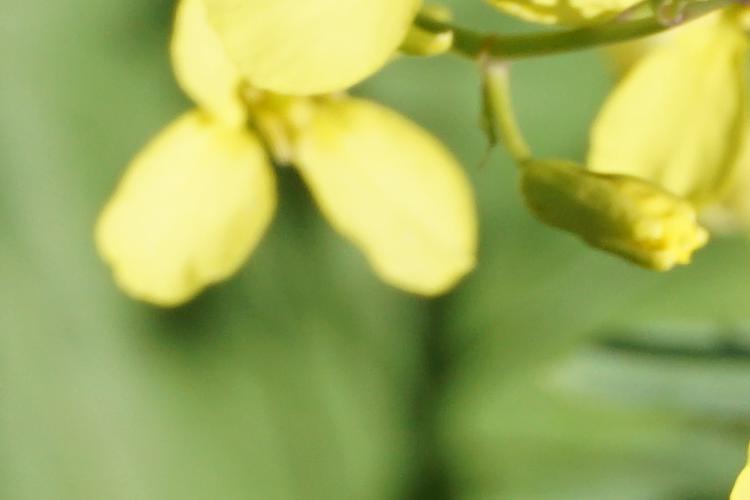bud: (497, 151, 721, 277)
yellow: (95, 1, 485, 318), (541, 5, 747, 215)
